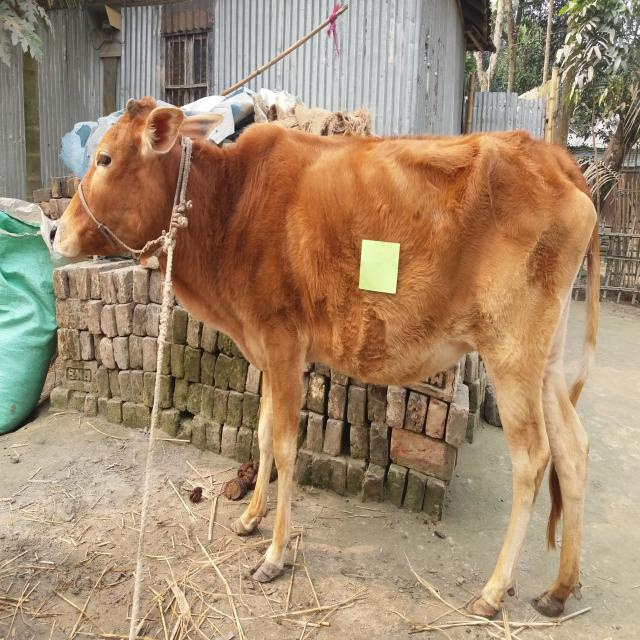badan_sapi: (246, 124, 591, 391)
sapi: (45, 86, 608, 626)
